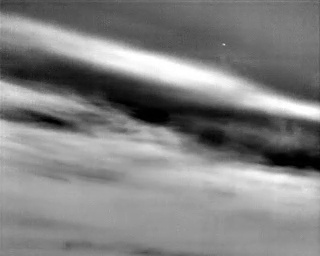BIRD: (221, 41, 227, 48)
